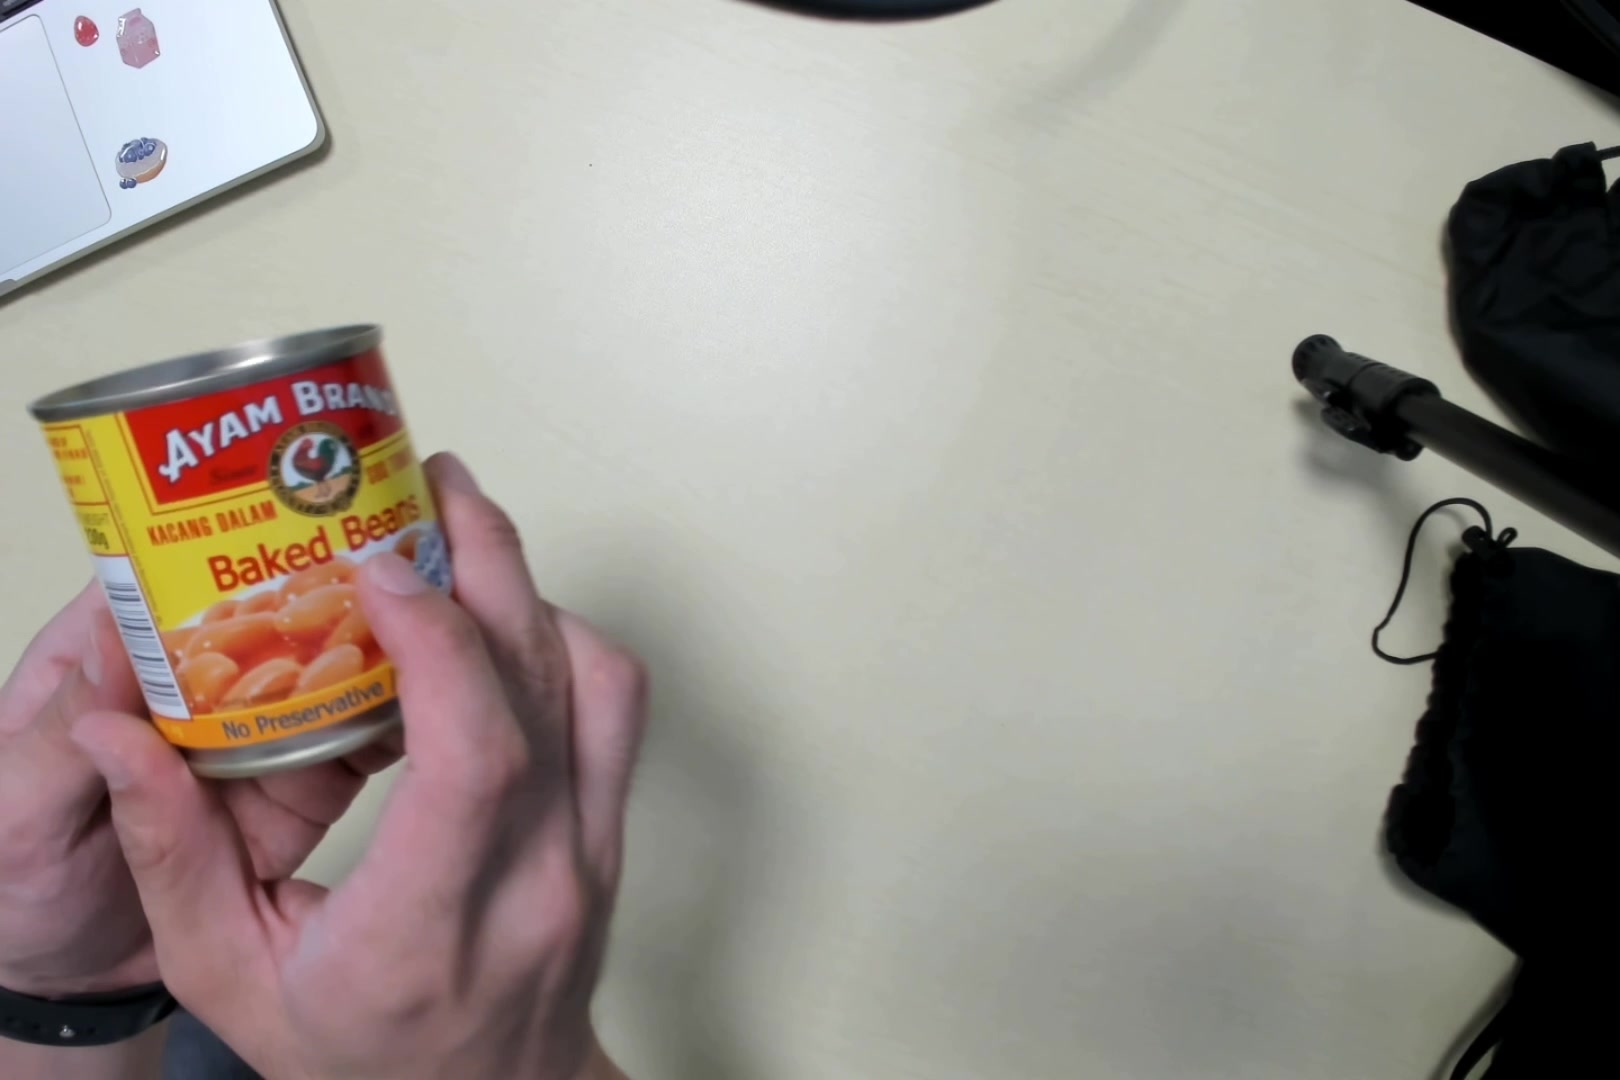CannedBakedBeans_200-299g_NonHalal_NonHealthy: (30, 316, 460, 773)
